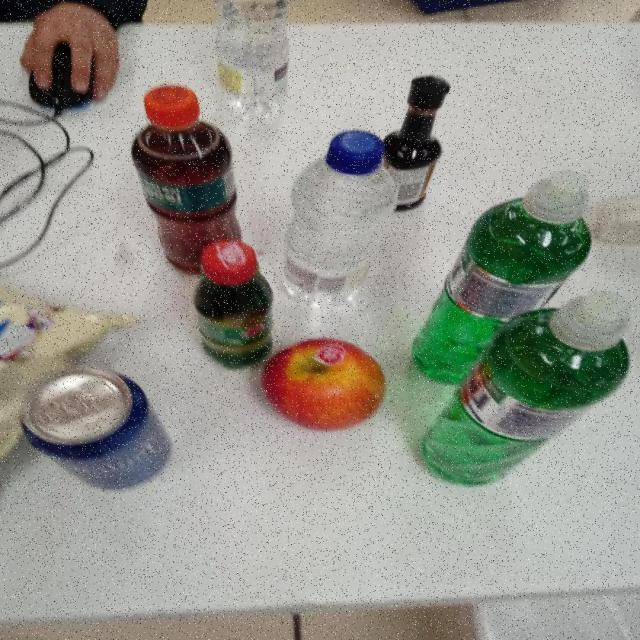Apple: (257, 339, 385, 431)
Cleaner: (414, 291, 633, 484), (406, 168, 593, 387)
CornFlakes: (0, 269, 130, 518)
EnglishSauce: (382, 77, 446, 209)
Guarana: (194, 242, 274, 366)
IceTea: (128, 86, 242, 272)
Tonic: (22, 365, 177, 491)
Water: (280, 131, 397, 310), (212, 0, 290, 123)
